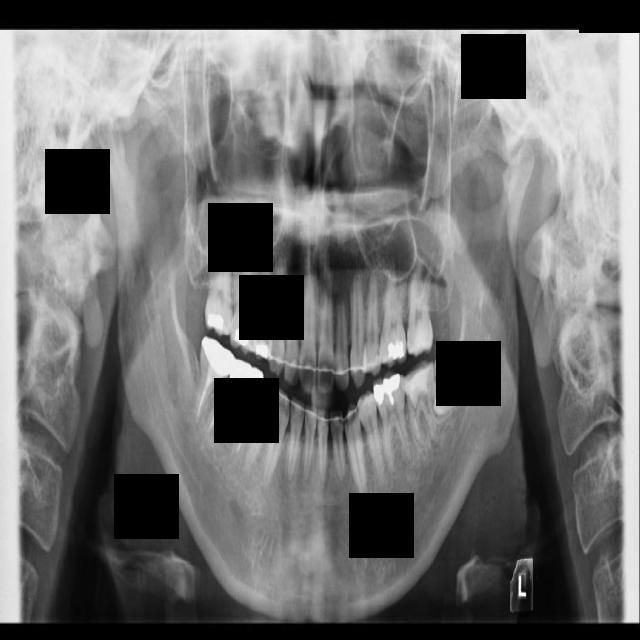52: (189, 331, 246, 386), (364, 367, 415, 417), (392, 356, 445, 404), (218, 355, 270, 403), (194, 295, 240, 339), (228, 311, 260, 354), (379, 329, 407, 367), (254, 326, 273, 361)
73: (212, 389, 257, 456), (192, 364, 228, 434), (406, 386, 439, 454), (532, 562, 540, 573)
BioHorizons Implant: (407, 258, 434, 355)
Biomet 3i Implant: (433, 357, 471, 416)
Blue Sky Bio Implant: (401, 360, 439, 454)
Caries: (205, 236, 233, 336)
Implant: (192, 336, 237, 435)
